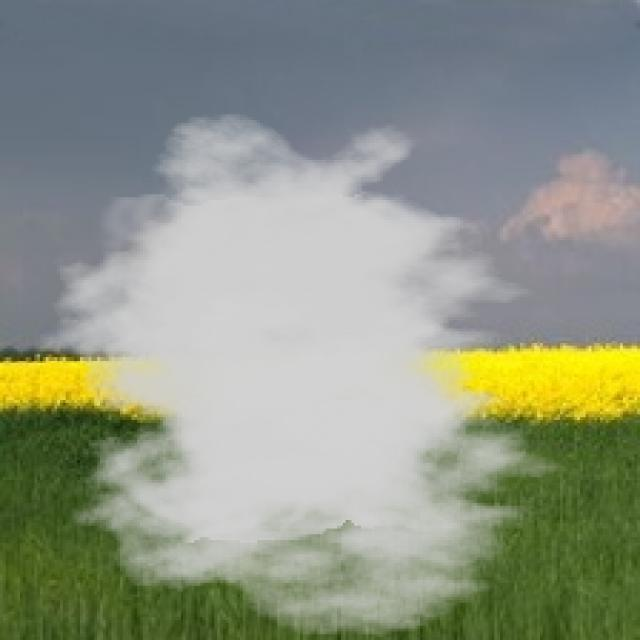Smoke: (29, 112, 588, 638)
